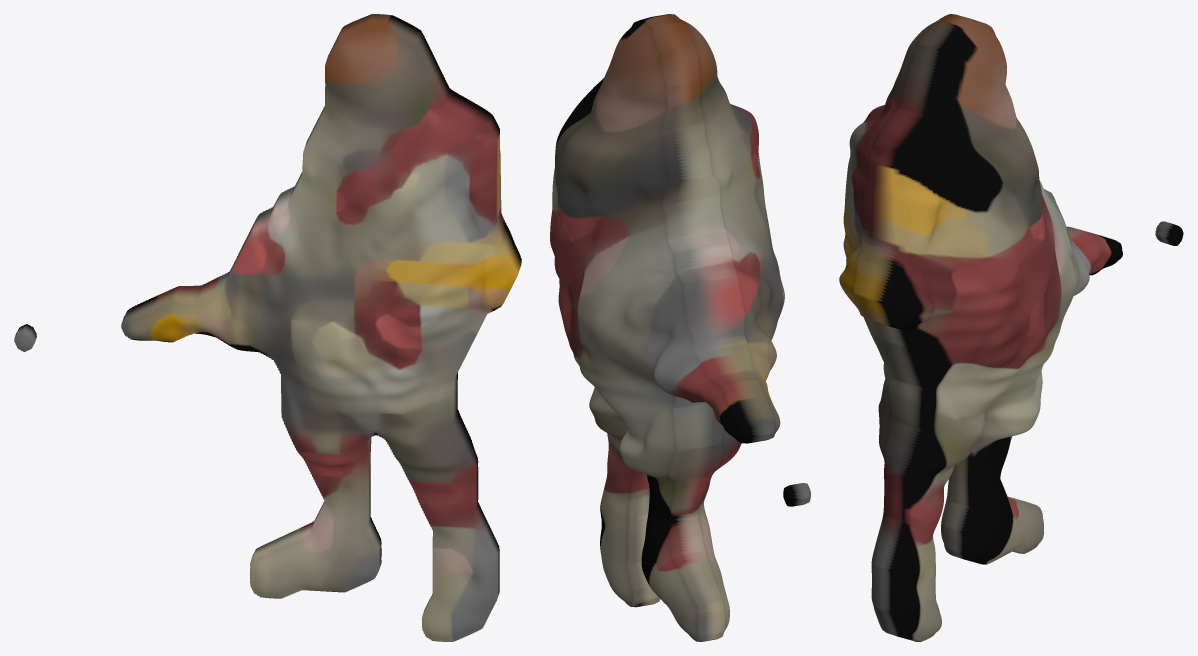
The model's file is boris.glb.
The picture shows the model from 3 angles, left to right: view 1: azimuth 30°, elevation 25°; view 2: azimuth 150°, elevation 25°; view 3: azimuth 270°, elevation 25°; orthographic projection. The views are drawn at different scales.
Visible parts, largest first — view 1: boris; view 2: boris; view 3: boris.
Part boxes in pixels (x1,y1,x2,y2): boris: (14, 14, 521, 641); boris: (550, 14, 810, 641); boris: (839, 14, 1183, 641).
Size of the model in its own units: 1.4 by 2.23 by 1.17.
